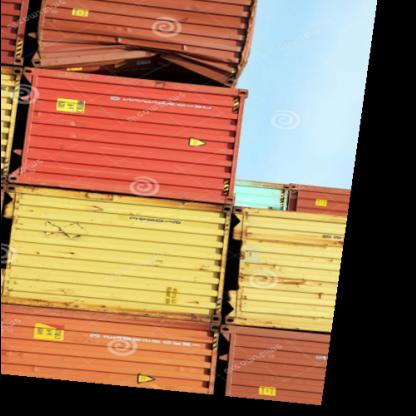Damage: (66, 33, 235, 100), (253, 223, 351, 252), (40, 211, 91, 253), (242, 268, 312, 292)
